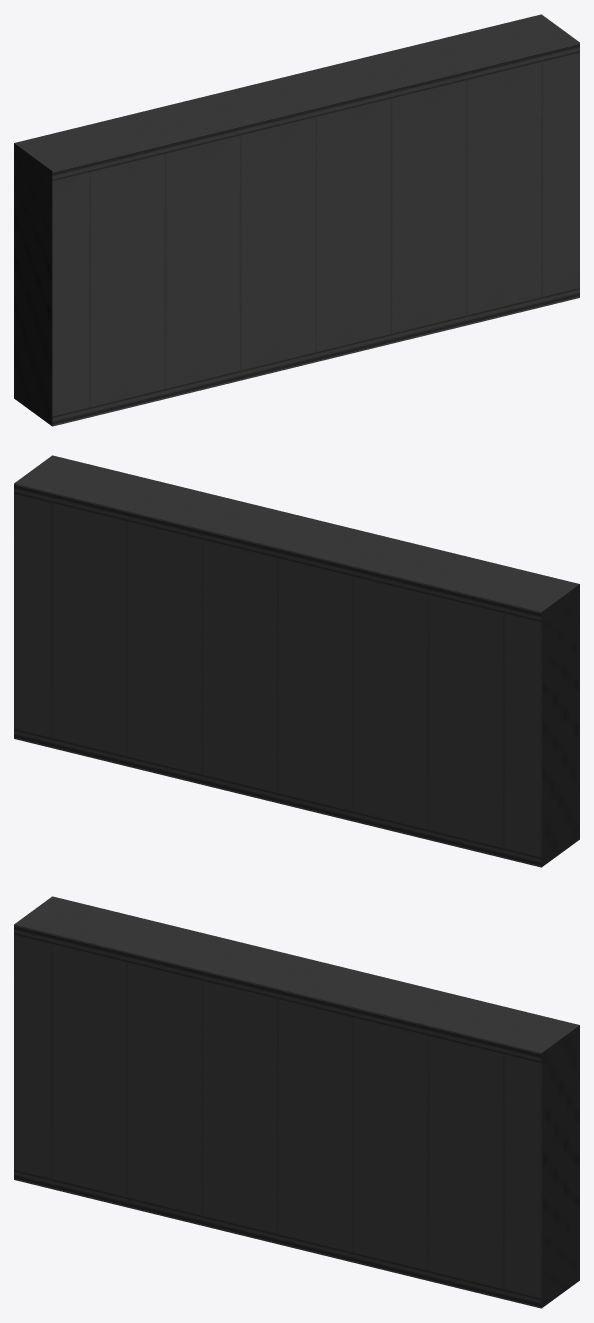
The model's file is ArenaGroundInter3.fbx.
The picture shows the model from 3 angles, top to bottom: view 1: azimuth 30°, elevation 25°; view 2: azimuth 150°, elevation 25°; view 3: azimuth 330°, elevation 25°; orthographic projection.
Parts seen in each view (by area): view 1: Cube__5_, Cube__5_.001; view 2: Cube__5_, Cube__5_.001; view 3: Cube__5_, Cube__5_.001.
Boxes of the visible parts, x1,y1,x2,y2 form: Cube__5_: [14, 52, 579, 426]; Cube__5_.001: [14, 14, 579, 181]; Cube__5_: [14, 493, 579, 867]; Cube__5_.001: [14, 455, 579, 622]; Cube__5_: [14, 934, 579, 1308]; Cube__5_.001: [14, 896, 579, 1063].
Bounding box in the file's own units: 889 × 411 × 112.
